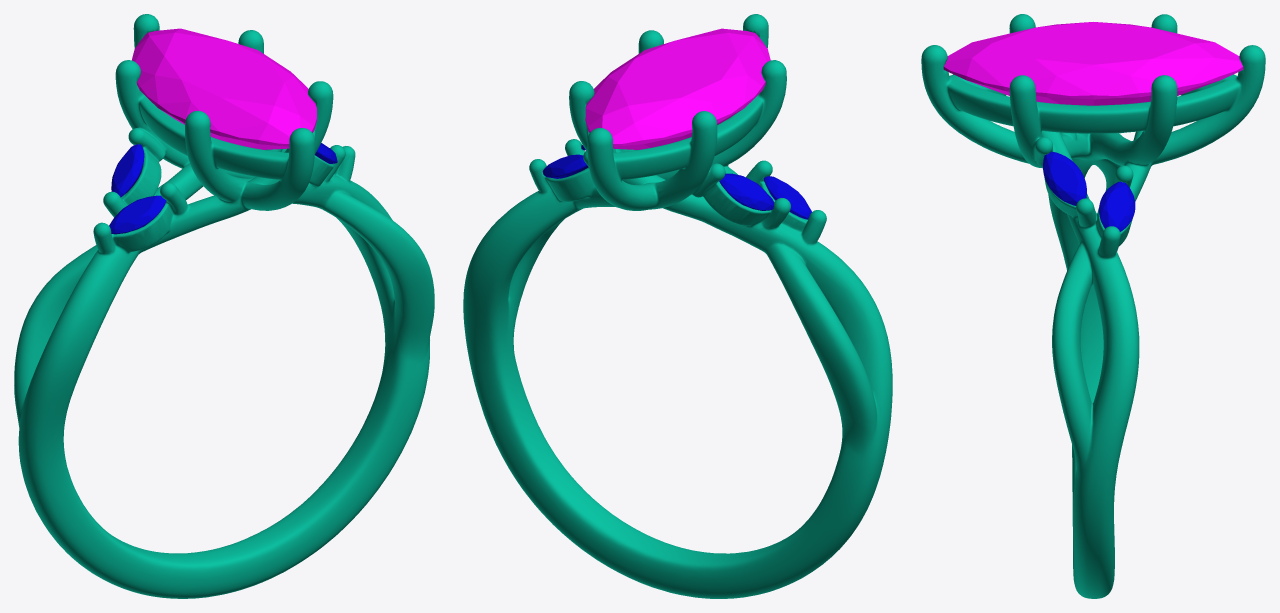
File: BE104_MQ_200ct_RENDER.glb
3 renders of one model, left to right at view 1: azimuth 30°, elevation 25°; view 2: azimuth 150°, elevation 25°; view 3: azimuth 270°, elevation 25°, orthographic. The views are drawn at different scales.
Parts seen in each view (by area): view 1: Metal 01, CS_Diamond_Marquise, Diamond_Marquise_side.002, Diamond_Marquise_side.003; view 2: Metal 01, CS_Diamond_Marquise, Diamond_Marquise_side.003, Diamond_Marquise_side.002, Diamond_Marquise_side; view 3: Metal 01, CS_Diamond_Marquise, Diamond_Marquise_side.001, Diamond_Marquise_side.
Part boxes in pixels (x1=…): Metal 01: x1=14, y1=14, x2=434, y2=598; CS_Diamond_Marquise: x1=132, y1=28, x2=316, y2=149; Diamond_Marquise_side.002: x1=109, y1=195, x2=166, y2=234; Diamond_Marquise_side.003: x1=111, y1=144, x2=144, y2=197; Metal 01: x1=463, y1=14, x2=892, y2=598; CS_Diamond_Marquise: x1=585, y1=28, x2=770, y2=149; Diamond_Marquise_side.003: x1=719, y1=173, x2=774, y2=210; Diamond_Marquise_side.002: x1=763, y1=176, x2=811, y2=219; Diamond_Marquise_side: x1=542, y1=154, x2=588, y2=178; Metal 01: x1=921, y1=14, x2=1265, y2=598; CS_Diamond_Marquise: x1=943, y1=22, x2=1243, y2=105; Diamond_Marquise_side.001: x1=1043, y1=151, x2=1086, y2=205; Diamond_Marquise_side: x1=1099, y1=181, x2=1135, y2=231.
Size of the model in its own units: 20.15 by 24.42 by 14.29.
